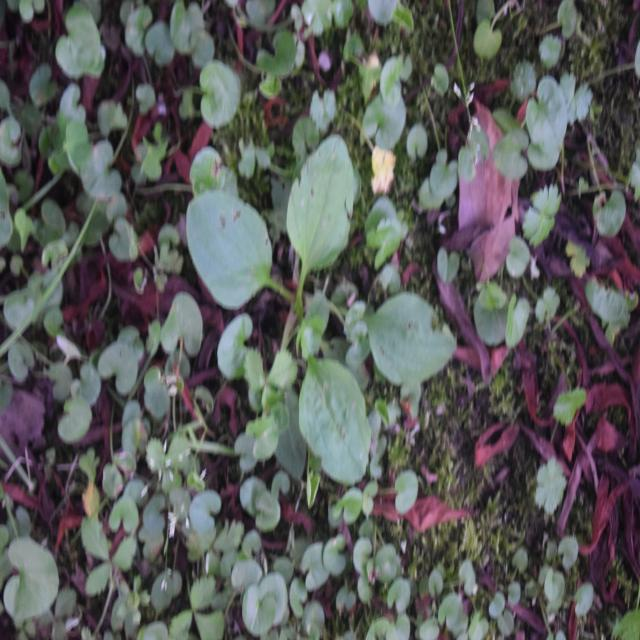plantain: (194, 144, 439, 466)
